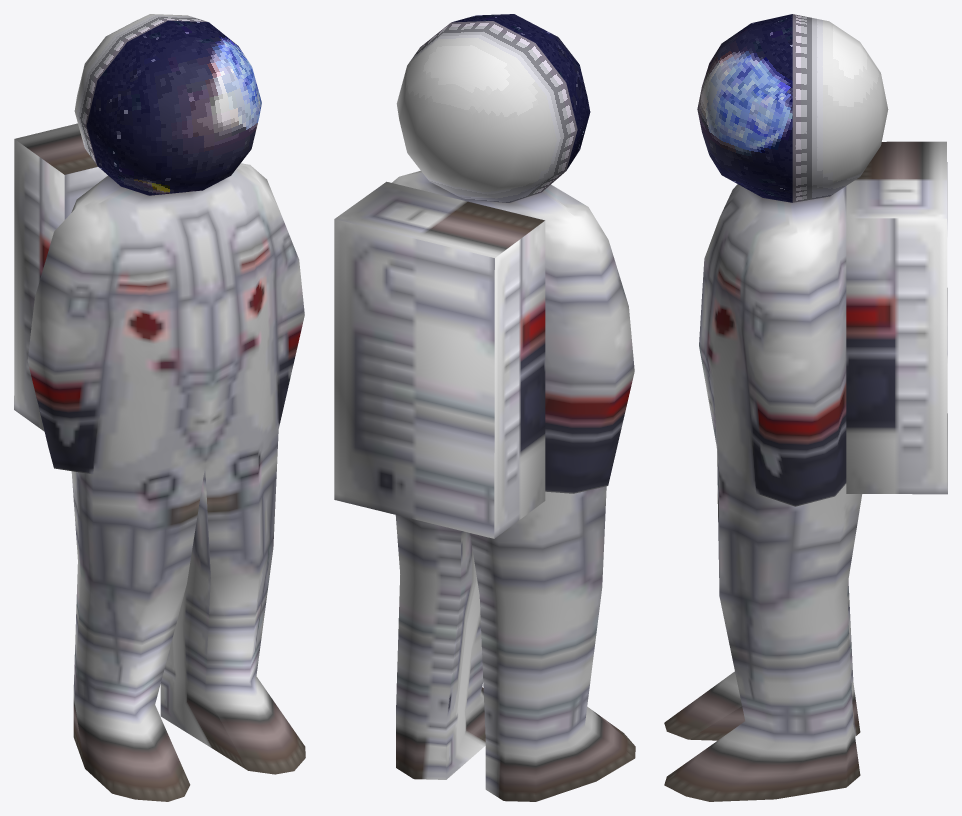
Rendered from int_uvs_spacesuit.dae.
3 renders of one model, left to right at view 1: azimuth 30°, elevation 25°; view 2: azimuth 150°, elevation 25°; view 3: azimuth 270°, elevation 25°, orthographic. The views are drawn at different scales.
Parts seen in each view (by area): view 1: int_uvs_spacesuit; view 2: int_uvs_spacesuit; view 3: int_uvs_spacesuit.
Part boxes in pixels (bbox=[...]): int_uvs_spacesuit: bbox=[14, 14, 305, 801]; int_uvs_spacesuit: bbox=[334, 14, 635, 801]; int_uvs_spacesuit: bbox=[664, 14, 947, 801].
Bounding box in the file's own units: 21.51 × 57.2 × 20.11.
Materials: 3 (3 with a texture image).
